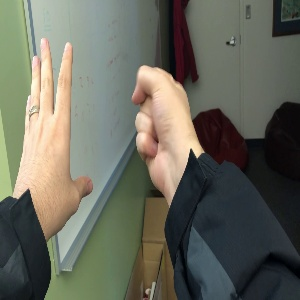hand: (20, 37, 93, 218), (131, 65, 202, 186)
